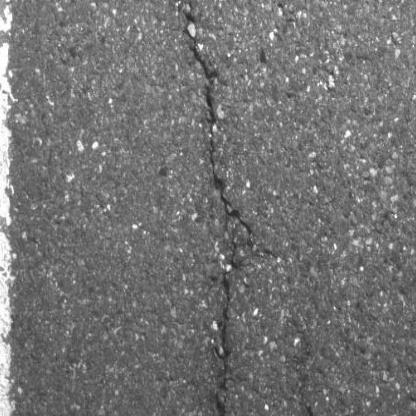Cracks: (182, 0, 258, 240), (212, 236, 243, 416)
